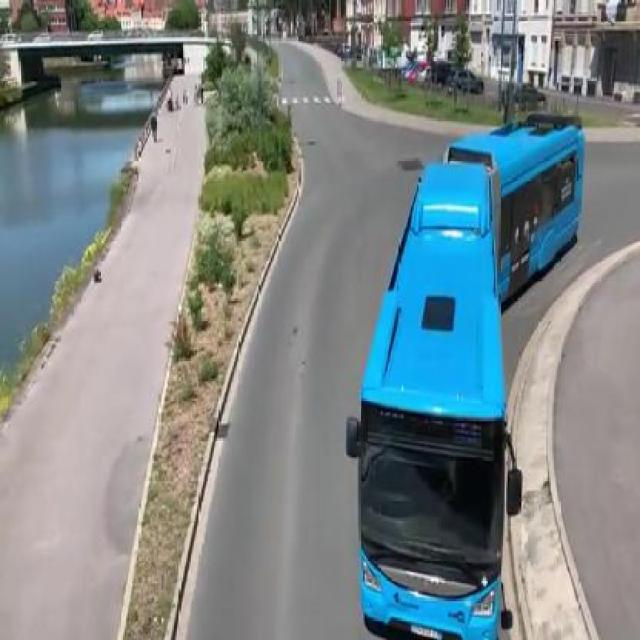bus: (344, 108, 586, 634)
